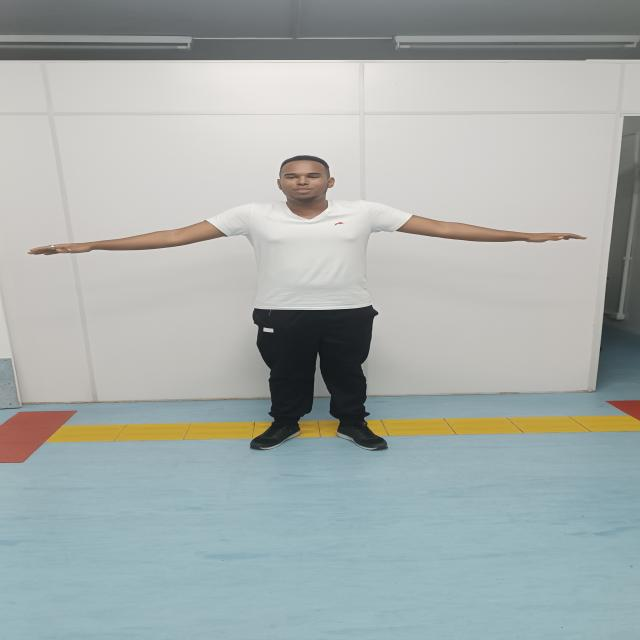takeoff: (29, 155, 585, 450)
